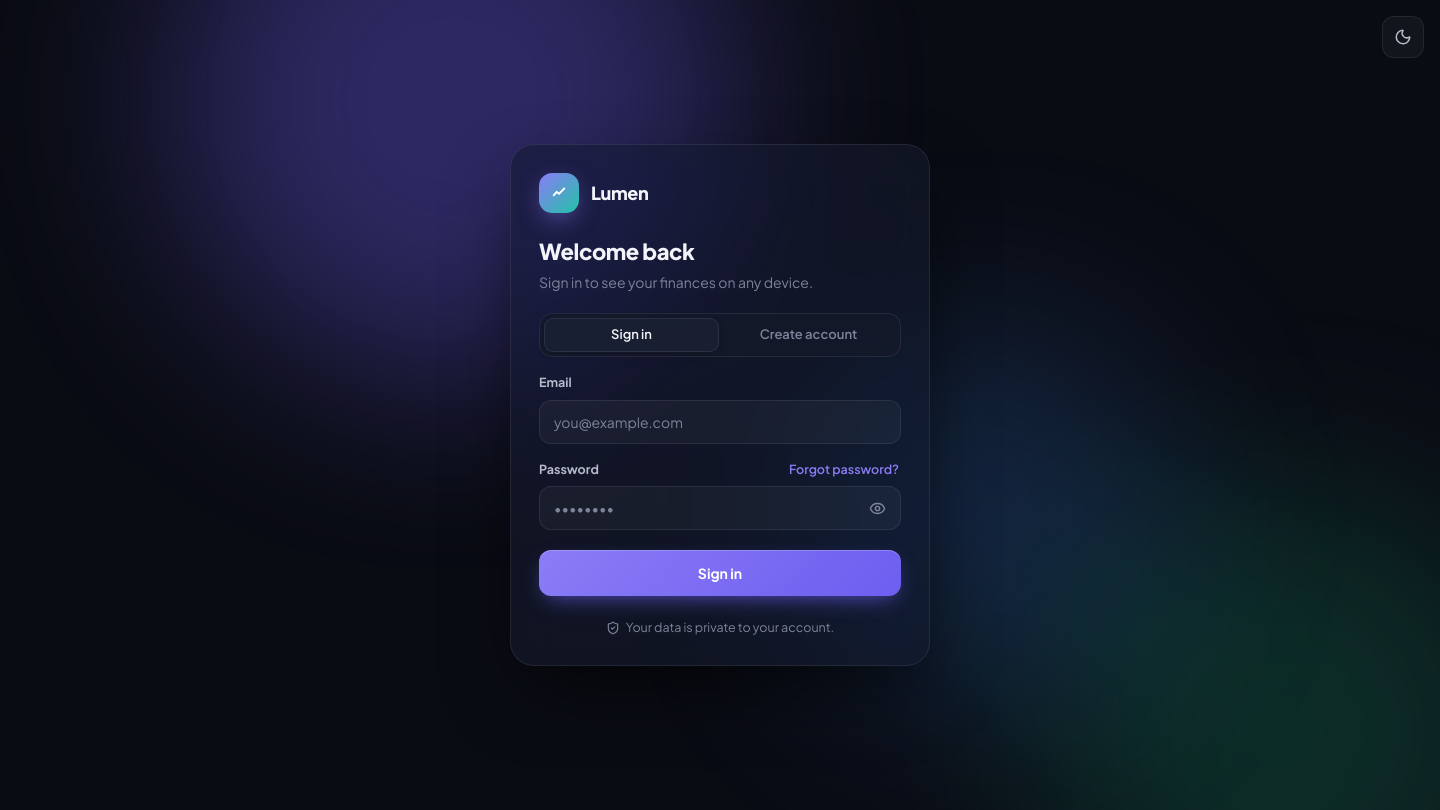
Test case: Sign in › tells unconfirmed users to confirm their email
Expected: the heading "Welcome back" is shown, [539,237,694,265]
Type "alice@example.com" into the field with placeholder "you@example.com". click: (720, 422)
box: [539,400,901,444]
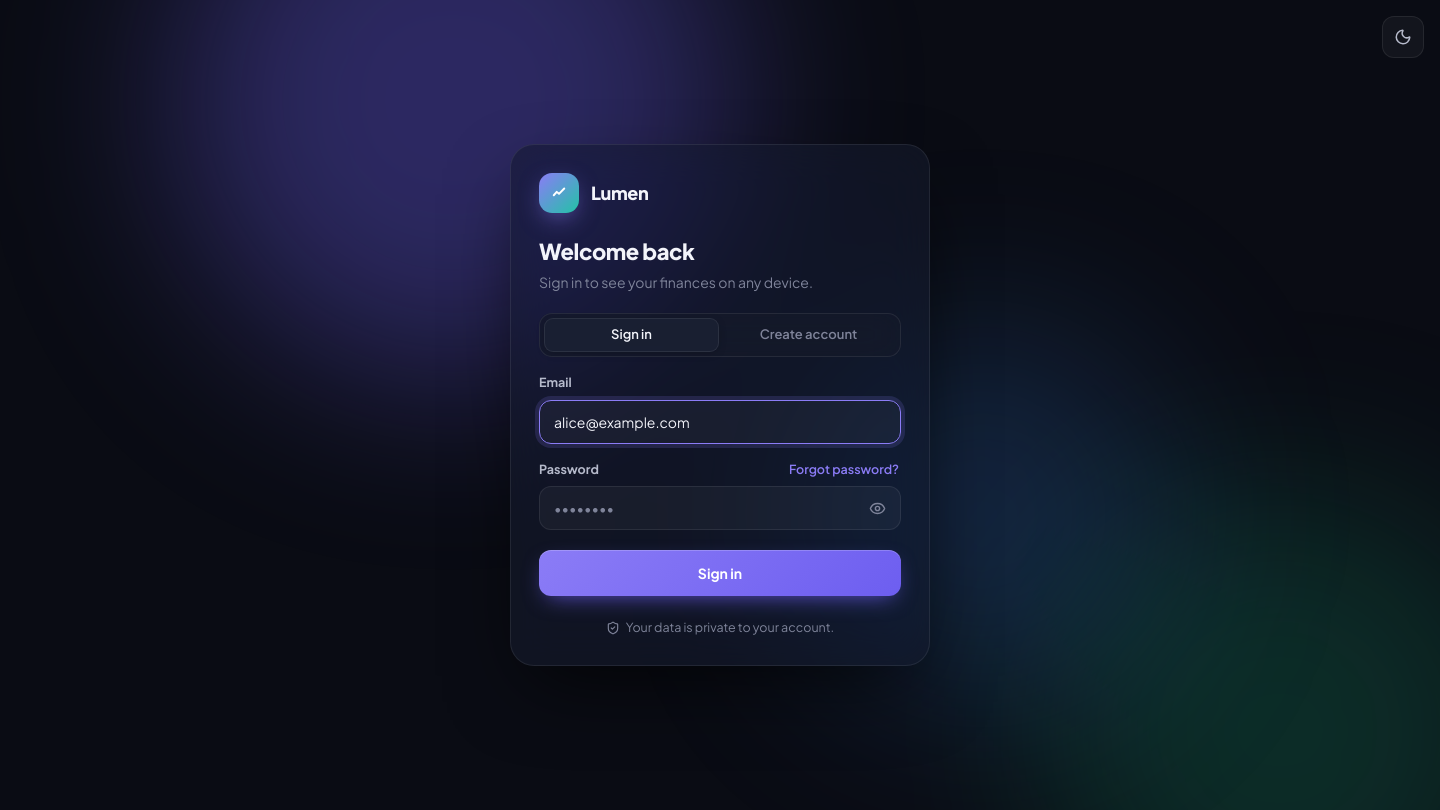
Type "correct-horse" into the password field labelled "Password". click: (720, 508)
box: [539,486,901,530]
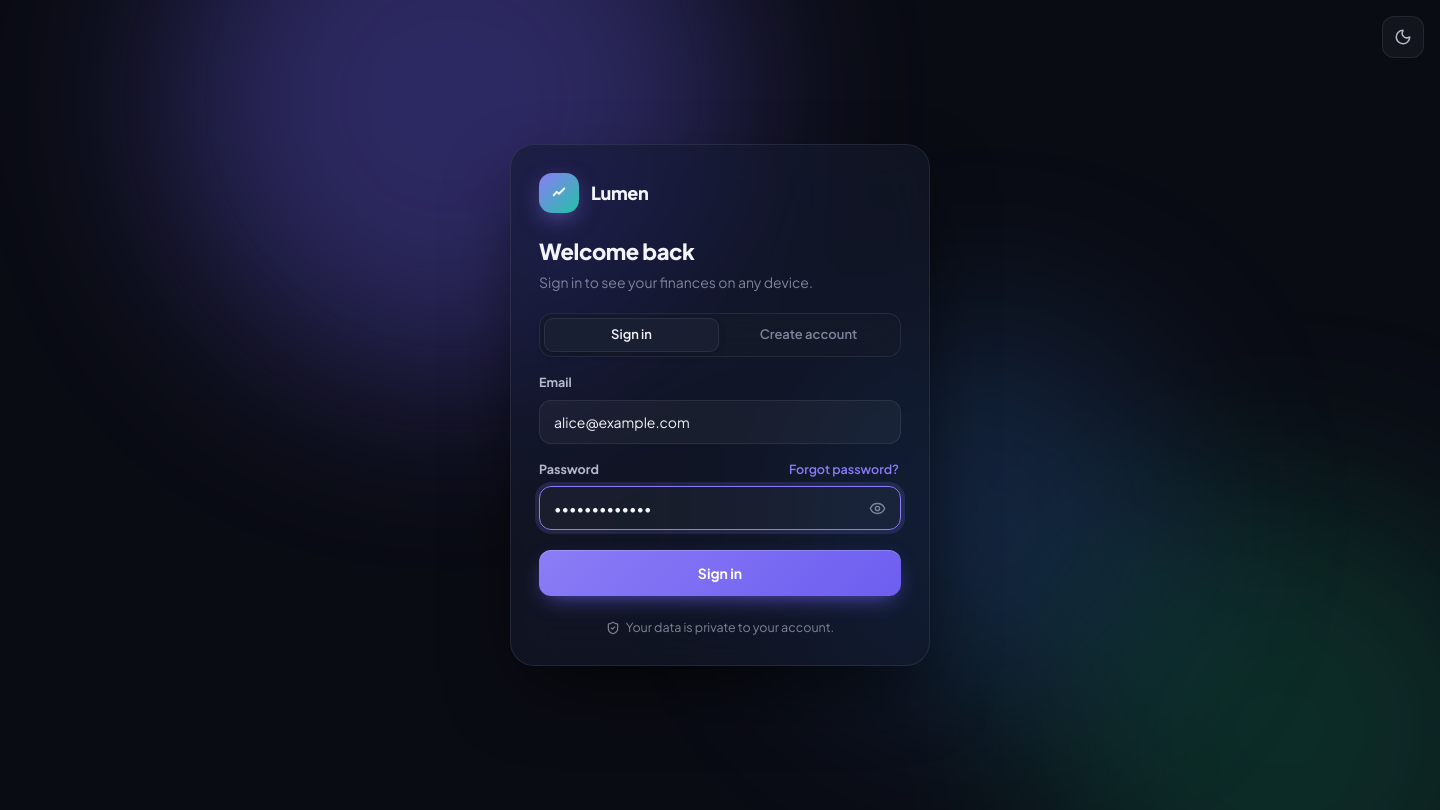
Click the button "Sign in". click: (720, 573)
box: [539,550,901,596]
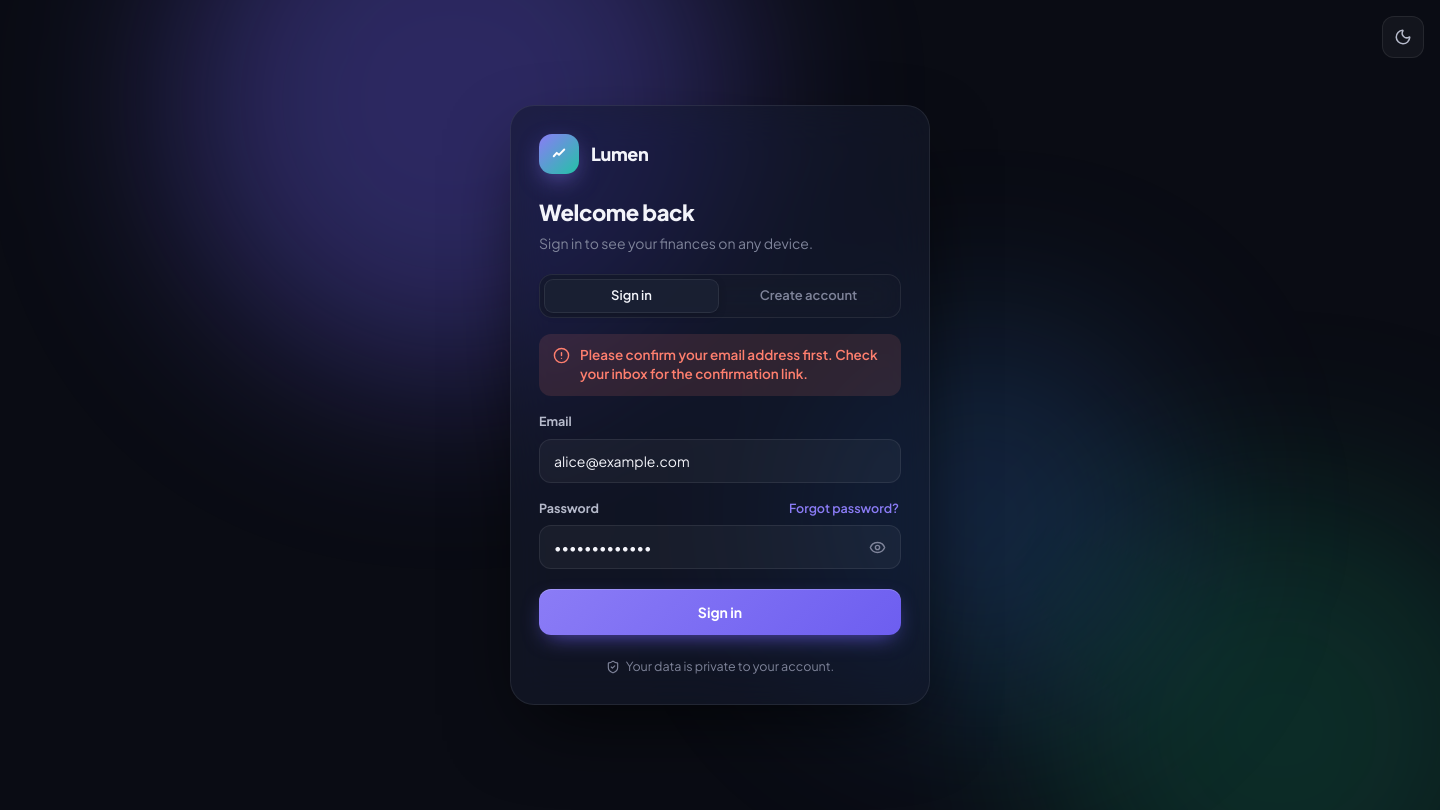
Result: the message shows "confirm your email" at [580,346,878,382]
